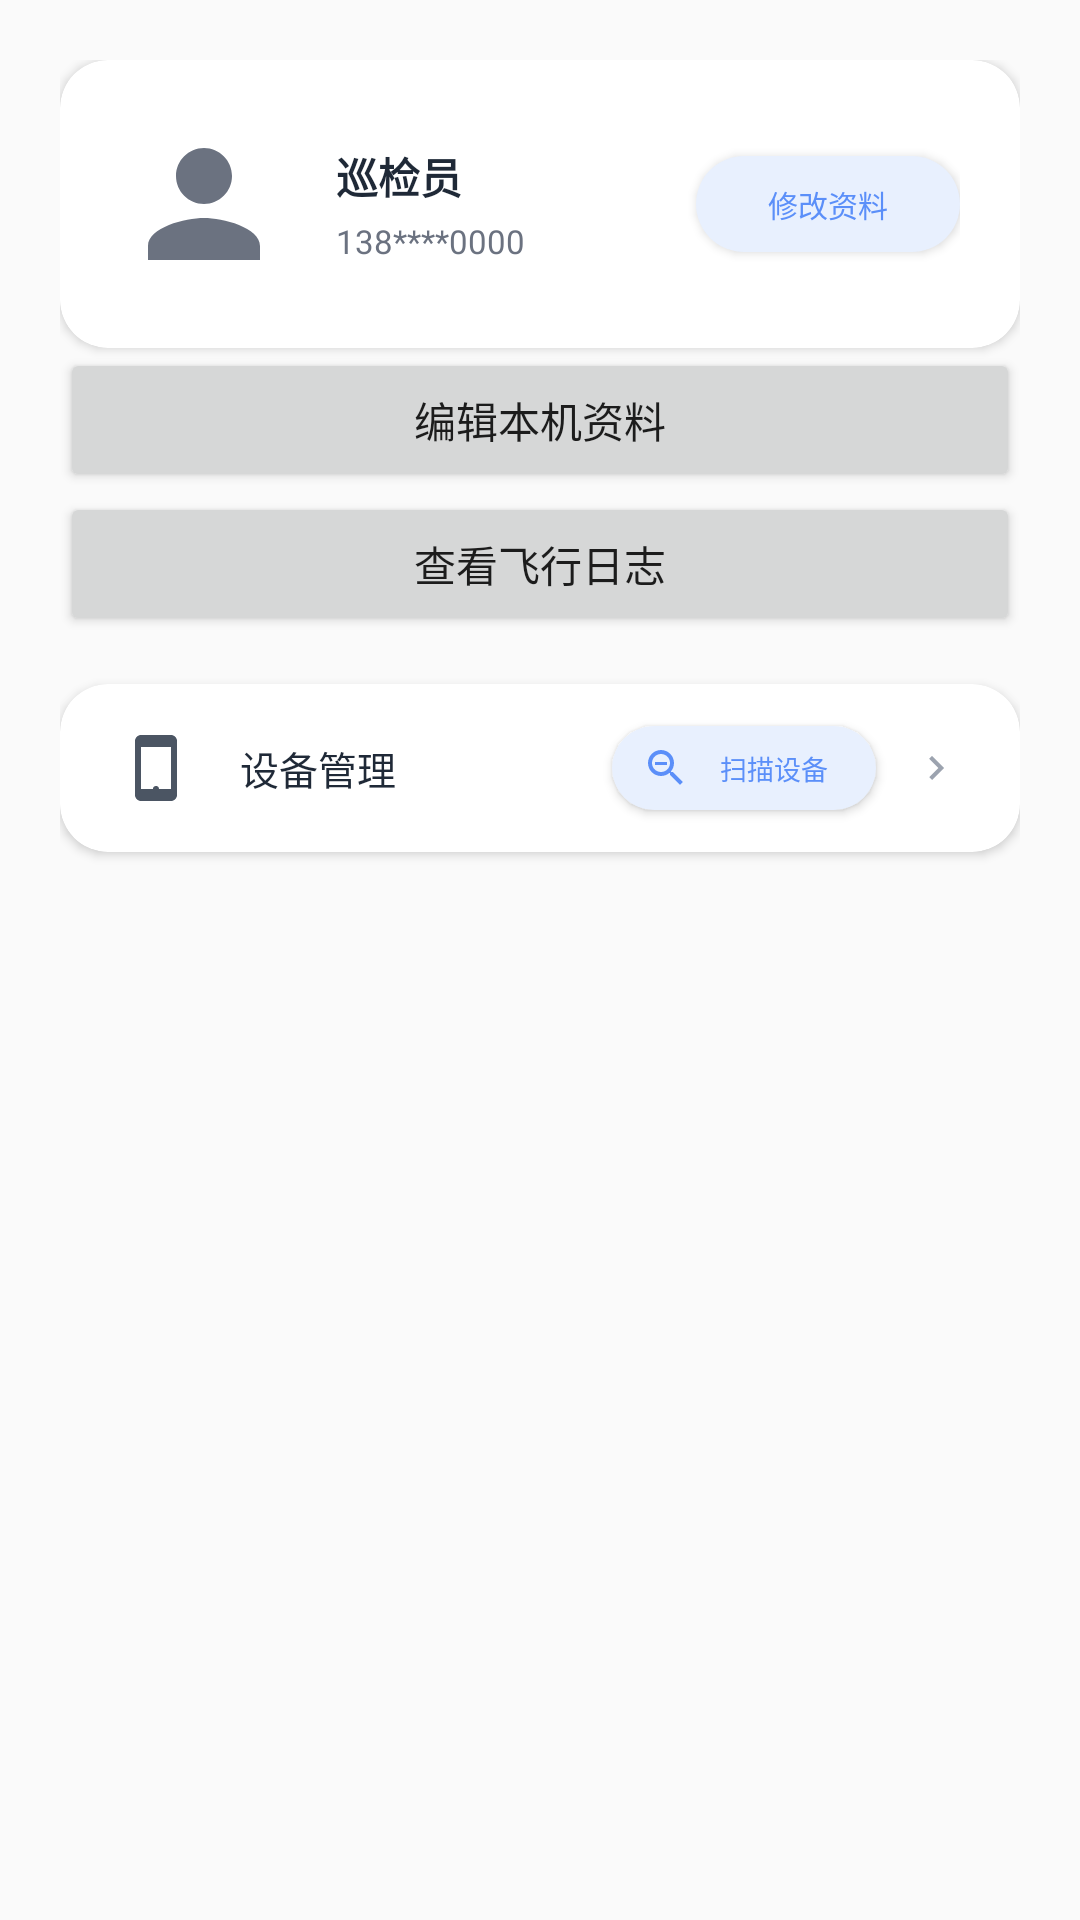

Icon bounding boxes for this 1080x1920 phone screenshot, format (x1, y1, x2, y2):
chevron right: (929, 756, 944, 780)
device: (135, 735, 177, 801)
profile: (148, 148, 260, 260)
